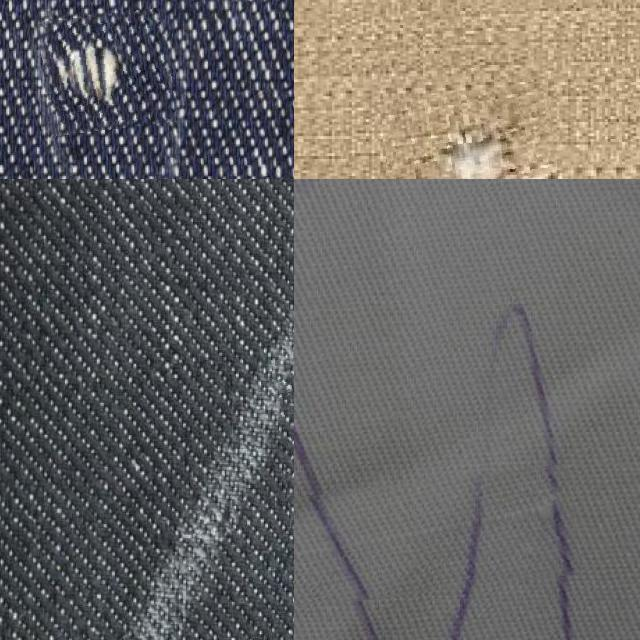Thread_other: (294, 479, 579, 622), (41, 10, 173, 132)
seam: (386, 85, 567, 179)
